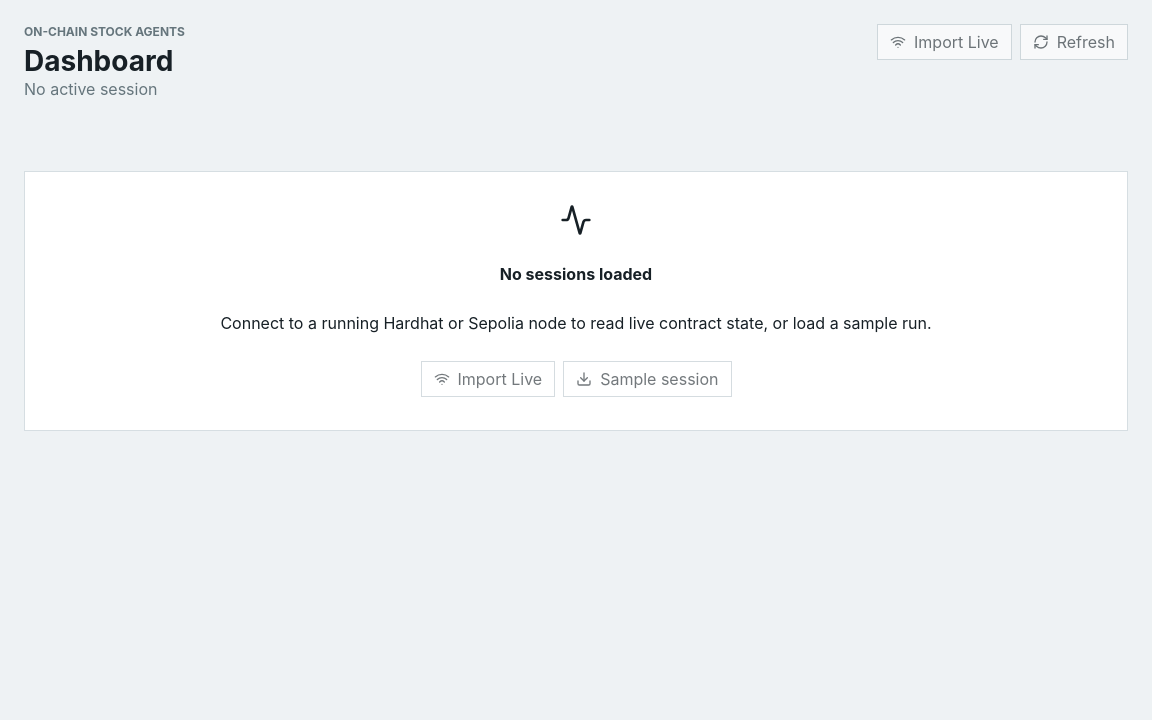
Scenario: dashboard app › renders imported events without tick labels under Transactions
Click the button "Sample session". click: (647, 379)
box: [563, 361, 732, 397]
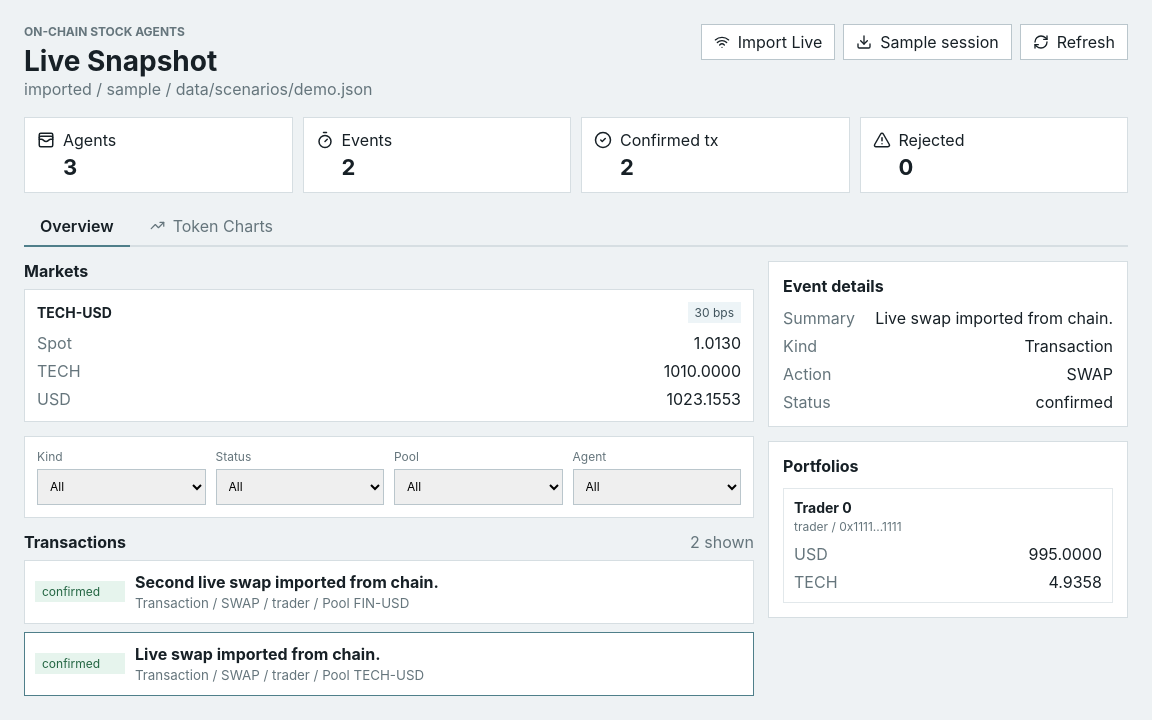
Now the heading "Transactions" is shown, box [24, 532, 126, 552]
Now the text "Second live swap imported from chain." is shown, box [135, 572, 439, 592]
